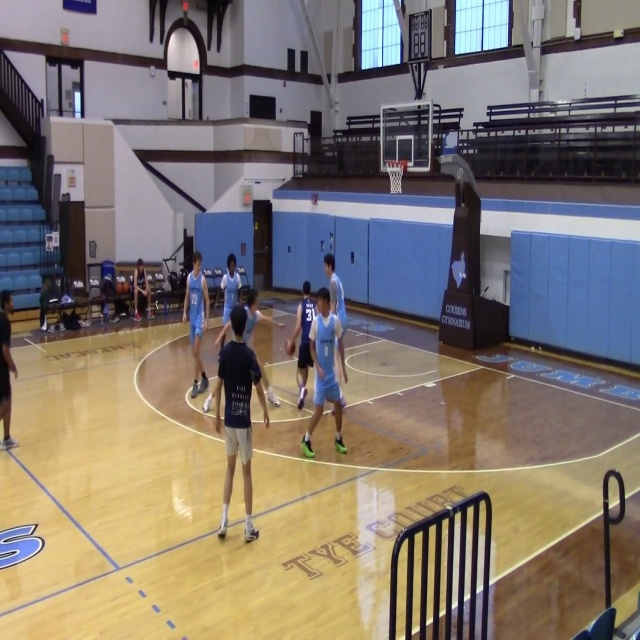Basketball: (115, 276, 129, 295), (115, 281, 129, 295), (284, 339, 295, 356)
